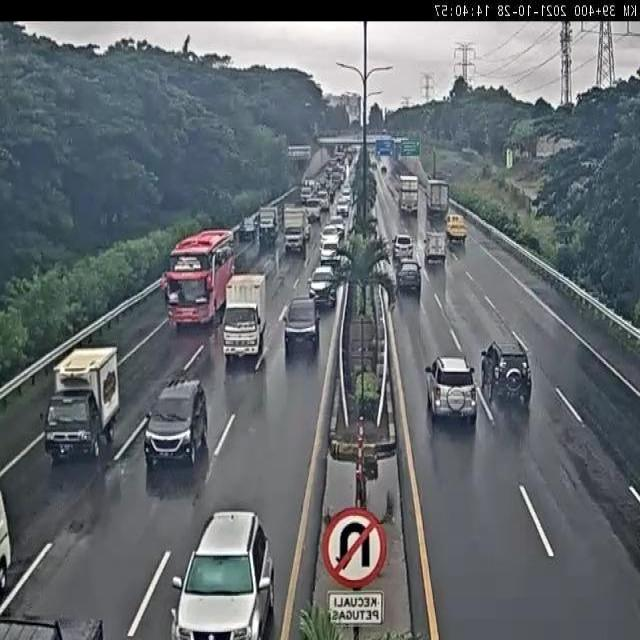Bus: (165, 227, 241, 327)
Car: (172, 506, 276, 640), (134, 378, 212, 483), (422, 355, 471, 422), (481, 337, 531, 401), (281, 294, 321, 348), (308, 269, 339, 301), (395, 262, 423, 294), (391, 232, 416, 262), (315, 240, 342, 264), (320, 222, 342, 246)
Truck: (46, 342, 129, 456), (215, 271, 278, 362), (278, 204, 309, 253), (391, 173, 421, 216), (253, 202, 282, 245), (426, 176, 452, 216), (424, 234, 447, 262), (448, 211, 468, 241)
